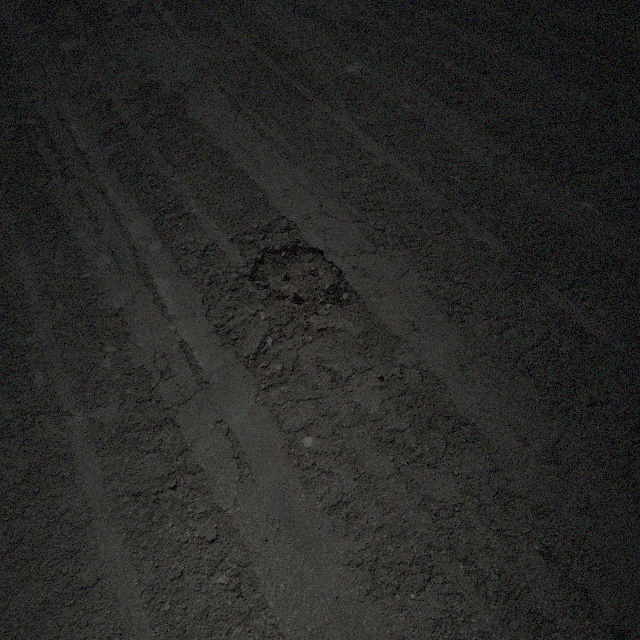pothole: (244, 241, 350, 305)
